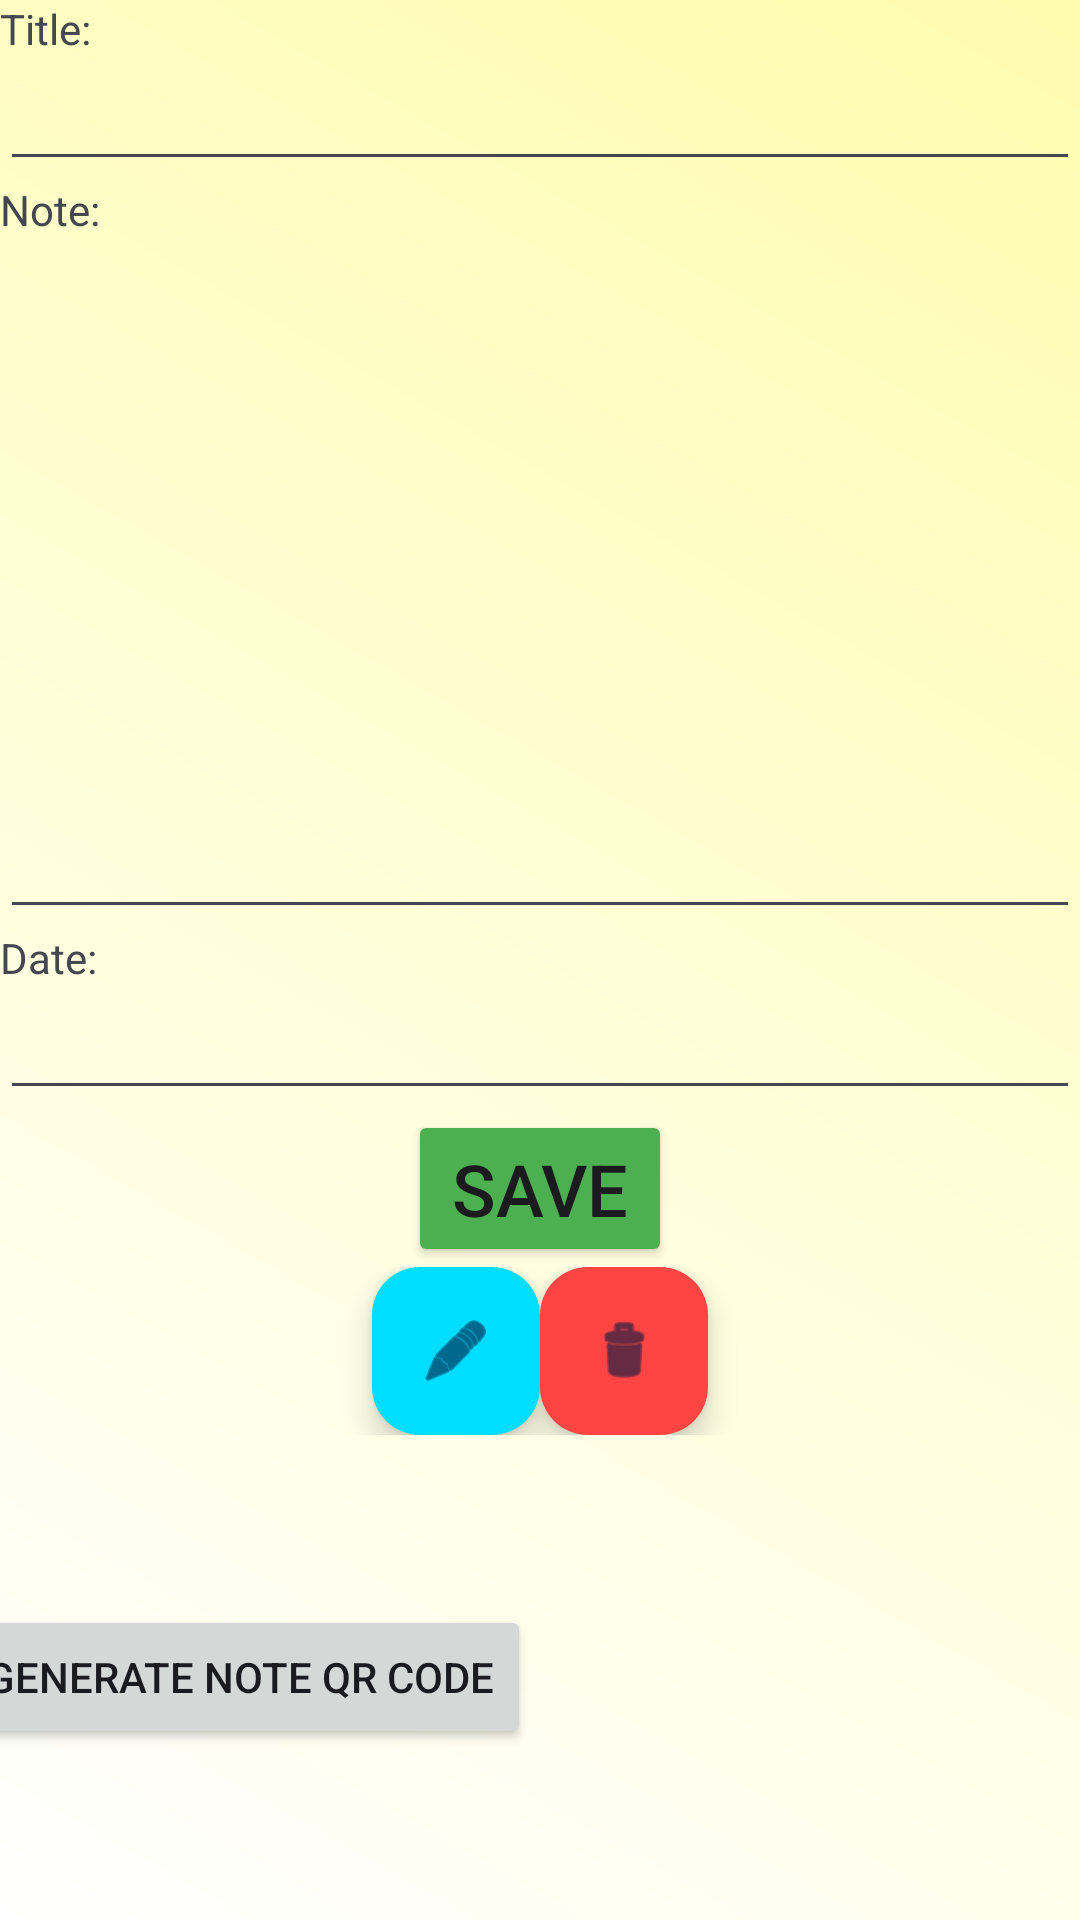

Locate icon controls on the screen. Image size 1080 x 1920, boxes as (x1, y1, x2, y2).
delete: (540, 1267, 708, 1435)
edit: (372, 1267, 540, 1435)
